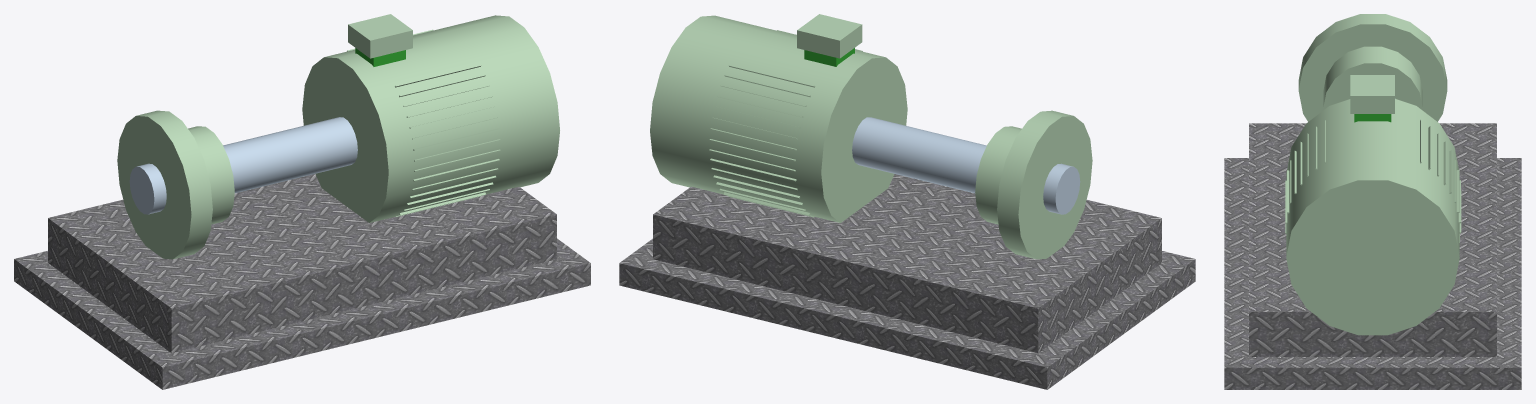
The model's file is ac_pump.gltf.
3 renders of one model, left to right at view 1: azimuth 30°, elevation 25°; view 2: azimuth 150°, elevation 25°; view 3: azimuth 270°, elevation 25°, orthographic.
Parts seen in each view (by area): view 1: Box345, Cylinder536, Box344, Cylinder534, Cylinder533, Cylinder535, Box363; view 2: Box345, Cylinder536, Box344, Cylinder534, Cylinder533, Cylinder535, Box363; view 3: Cylinder536, Box345, Box344, Cylinder534, Cylinder535, Box363, Box362.
Boxes of the visible parts, bbox=[...] form: Box345: bbox=[48, 174, 556, 353]; Cylinder536: bbox=[302, 15, 559, 222]; Box344: bbox=[14, 238, 590, 389]; Cylinder534: bbox=[117, 110, 212, 259]; Cylinder533: bbox=[129, 117, 357, 214]; Cylinder535: bbox=[188, 126, 234, 224]; Box363: bbox=[348, 14, 412, 58]; Box345: bbox=[653, 174, 1161, 353]; Cylinder536: bbox=[650, 15, 907, 222]; Box344: bbox=[619, 238, 1195, 389]; Cylinder534: bbox=[997, 110, 1092, 259]; Cylinder533: bbox=[852, 117, 1080, 214]; Cylinder535: bbox=[975, 126, 1021, 224]; Box363: bbox=[797, 14, 862, 58]; Cylinder536: bbox=[1286, 99, 1459, 335]; Box345: bbox=[1249, 123, 1496, 356]; Box344: bbox=[1224, 158, 1521, 389]; Cylinder534: bbox=[1298, 14, 1447, 121]; Cylinder535: bbox=[1323, 46, 1422, 109]; Box363: bbox=[1350, 75, 1394, 113]; Box362: bbox=[1354, 114, 1391, 122].
Bounding box in the file's own units: 9.56 × 5.05 × 5.73.
Materials: 4 (4 with a texture image).
